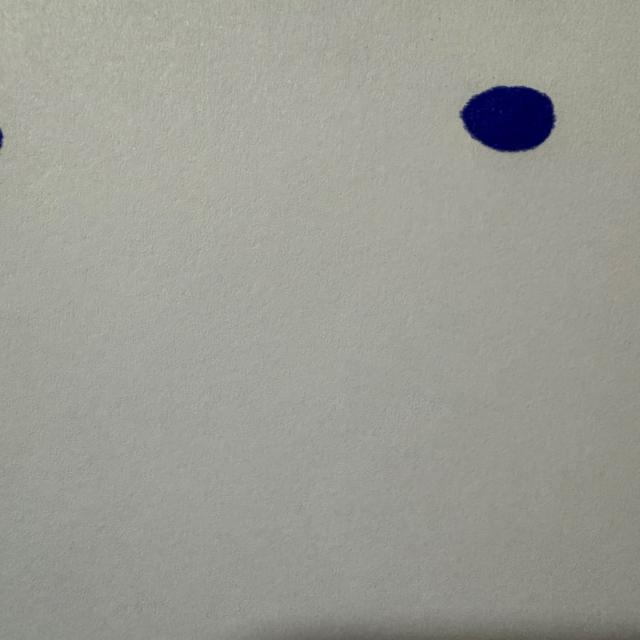Circle: (450, 81, 563, 155)
